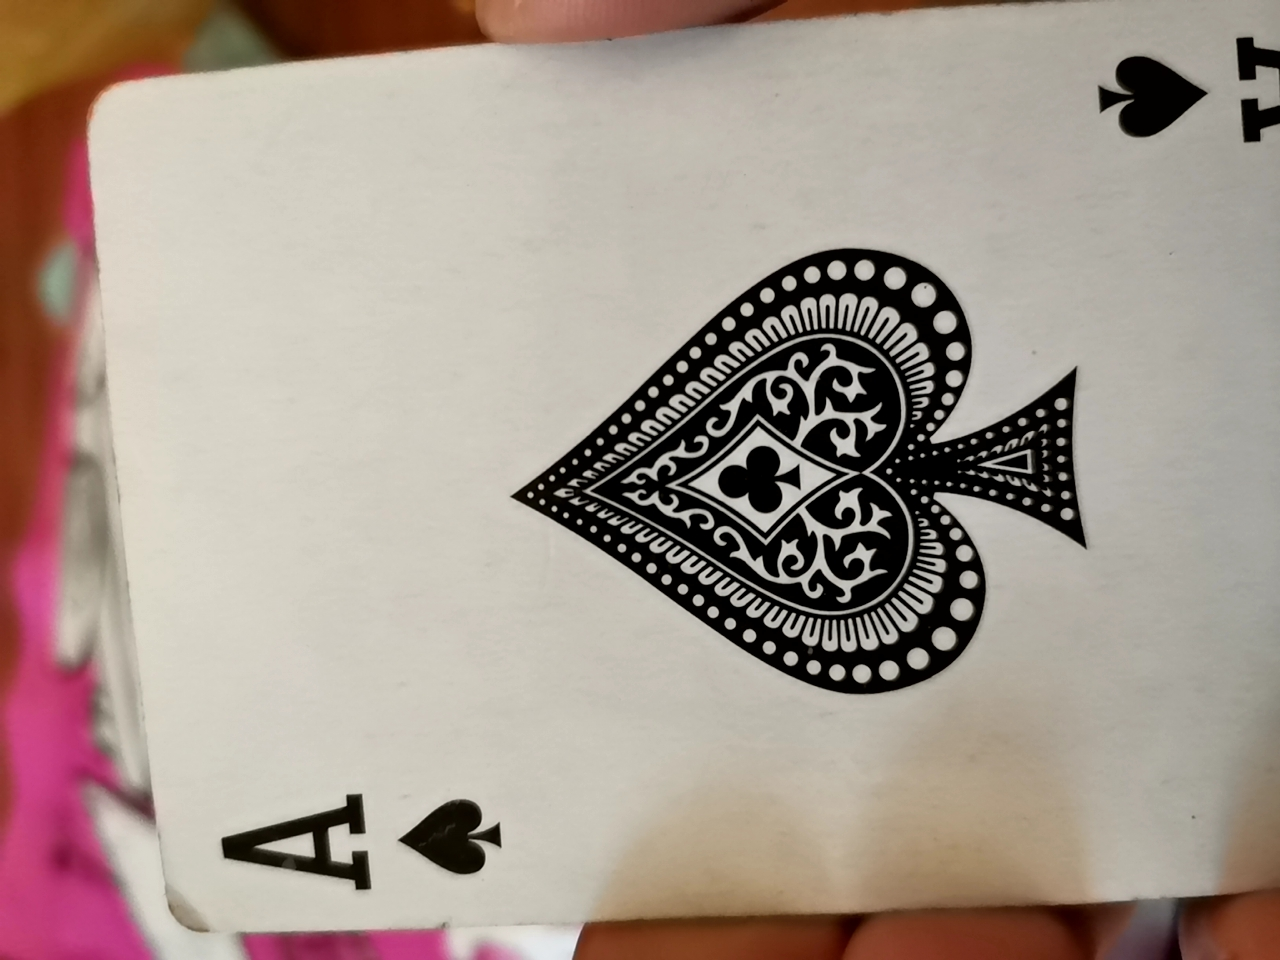ht a: (81, 7, 1269, 948)
